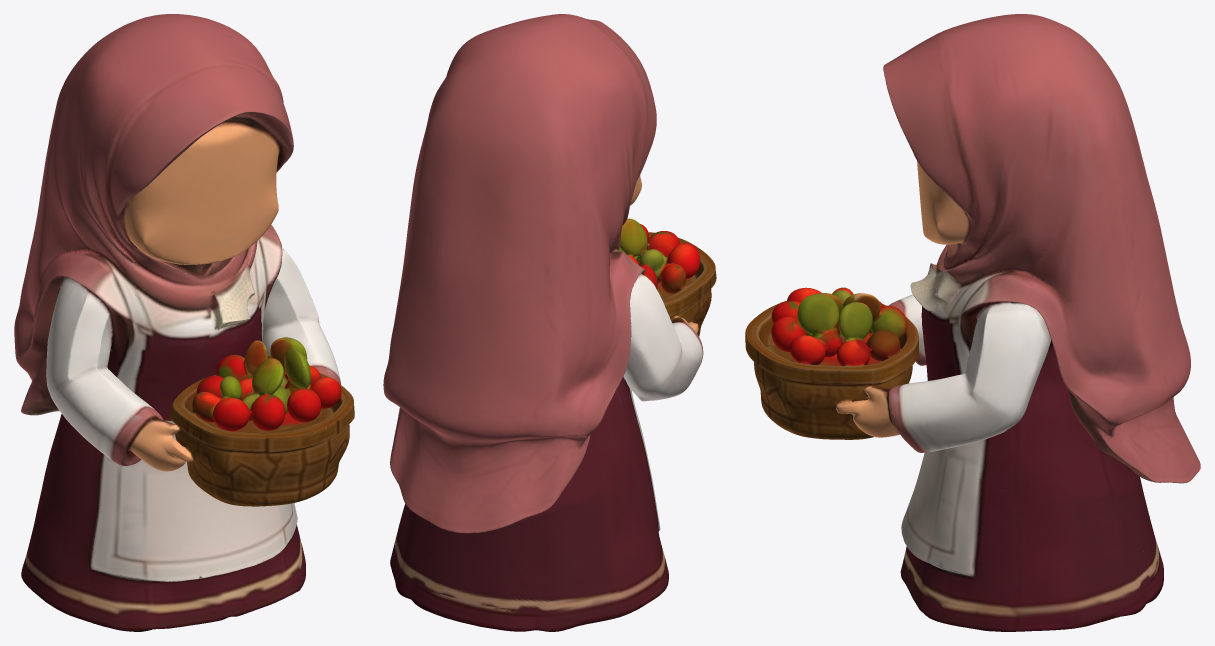
The model's file is mother-helper.glb.
3 renders of one model, left to right at view 1: azimuth 30°, elevation 25°; view 2: azimuth 150°, elevation 25°; view 3: azimuth 270°, elevation 25°, orthographic. The views are drawn at different scales.
Bounding box in the file's own units: 0.9046 × 1.9 × 1.38.
Materials: 1 (1 with a texture image).
